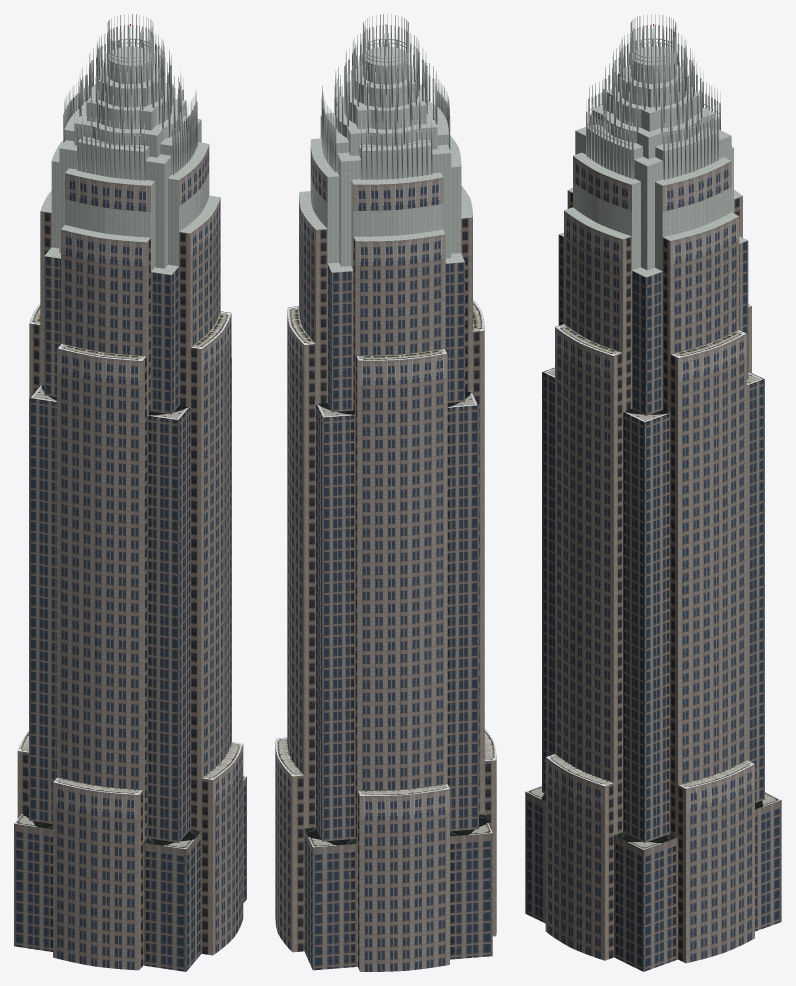
Rendered from bank of america.fbx.
The picture shows the model from 3 angles, left to right: view 1: azimuth 30°, elevation 25°; view 2: azimuth 150°, elevation 25°; view 3: azimuth 270°, elevation 25°; orthographic projection.
Parts seen in each view (by area): view 1: Component_20_3, Component_20_4, Component_20_2, Component_20_1, Component_20_7; view 2: Component_20_8, Component_20_7, Component_20_5, Component_20_4, Component_20_6, Component_20_3; view 3: Component_20_6, Component_20_1, Component_20_5, Component_20_2, Component_20_8.
Part boxes in pixels (x1,y1,x2,y2): Component_20_3: (94,56,186,971); Component_20_4: (14,56,129,966); Component_20_2: (131,56,233,971); Component_20_1: (133,52,246,937); Component_20_7: (14,53,129,823); Component_20_8: (313,56,406,971); Component_20_7: (386,56,492,970); Component_20_5: (278,56,383,969); Component_20_4: (387,54,496,936); Component_20_6: (275,51,383,932); Component_20_3: (386,49,493,741); Component_20_6: (643,56,724,971); Component_20_1: (570,56,653,971); Component_20_5: (654,56,781,952); Component_20_2: (525,55,652,947); Component_20_8: (654,49,780,799).
Size of what is drawn, in the model's own units: 2716 by 10465 by 2716.
